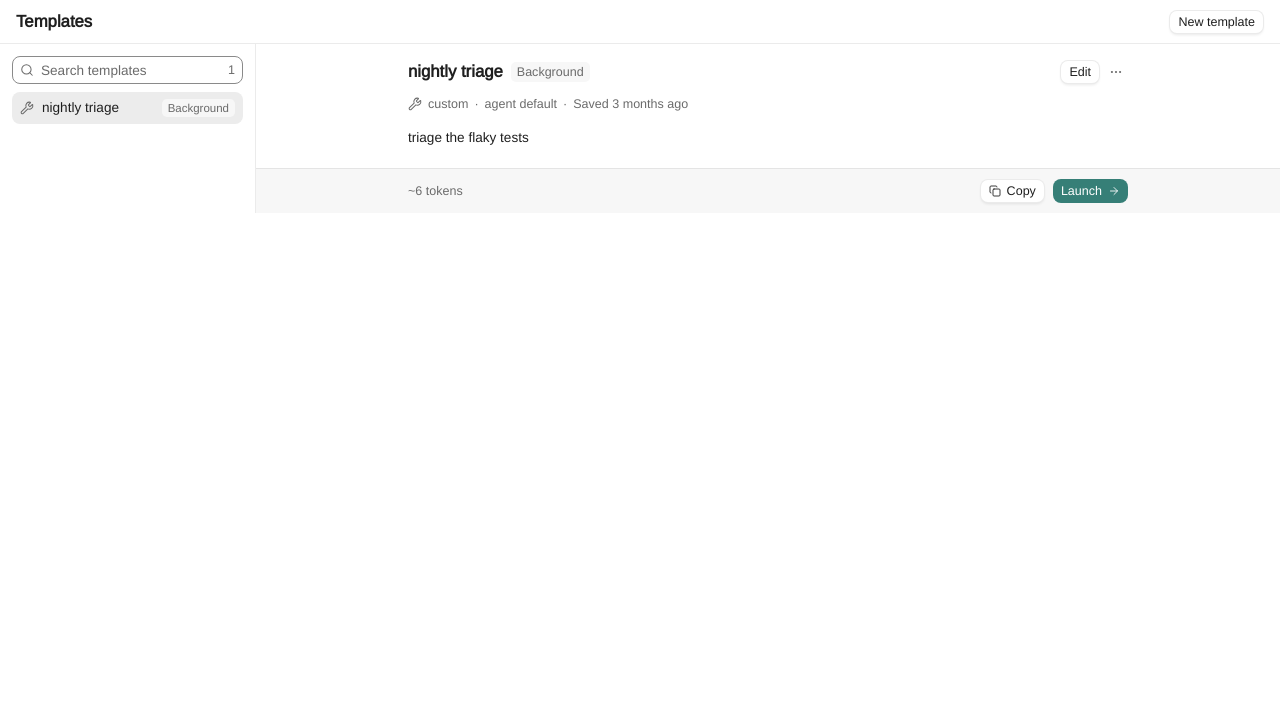
Test: templates view › lists the agents the server reports and keeps a saved harness it omits
The width and height of the screenshot is (1280, 720).
Click the 2nd button named "Edit" at {"x": 1080, "y": 72}, box [1060, 60, 1100, 84]
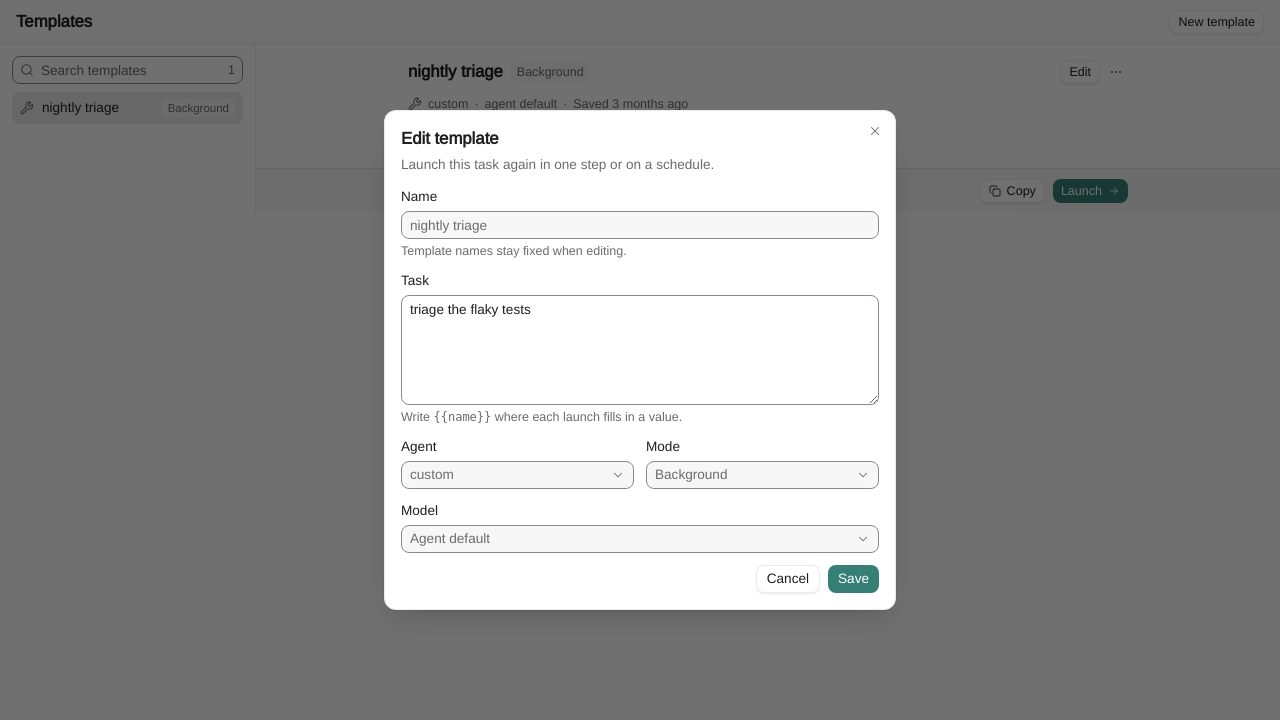
Press Enter
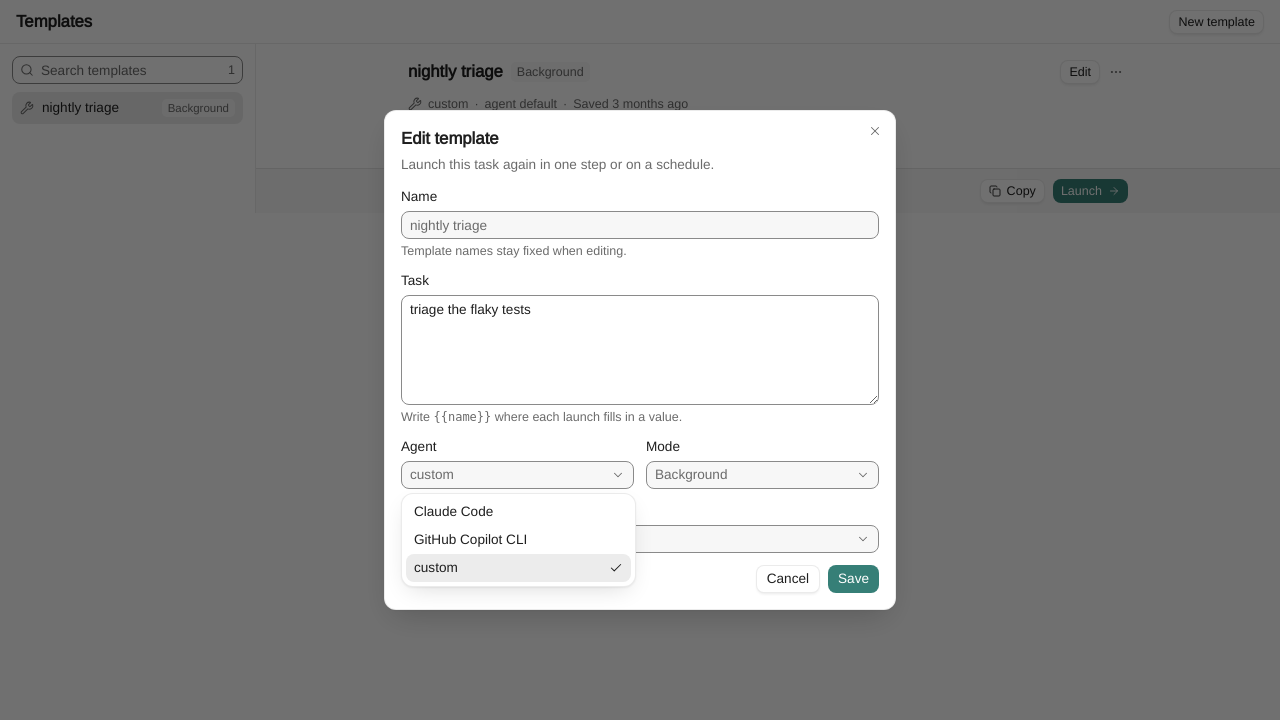
Expected: the options read "Claude Code", "GitHub Copilot CLI", "custom", in this order, [414, 503, 493, 520]; [414, 531, 527, 548]; [406, 554, 631, 582]
